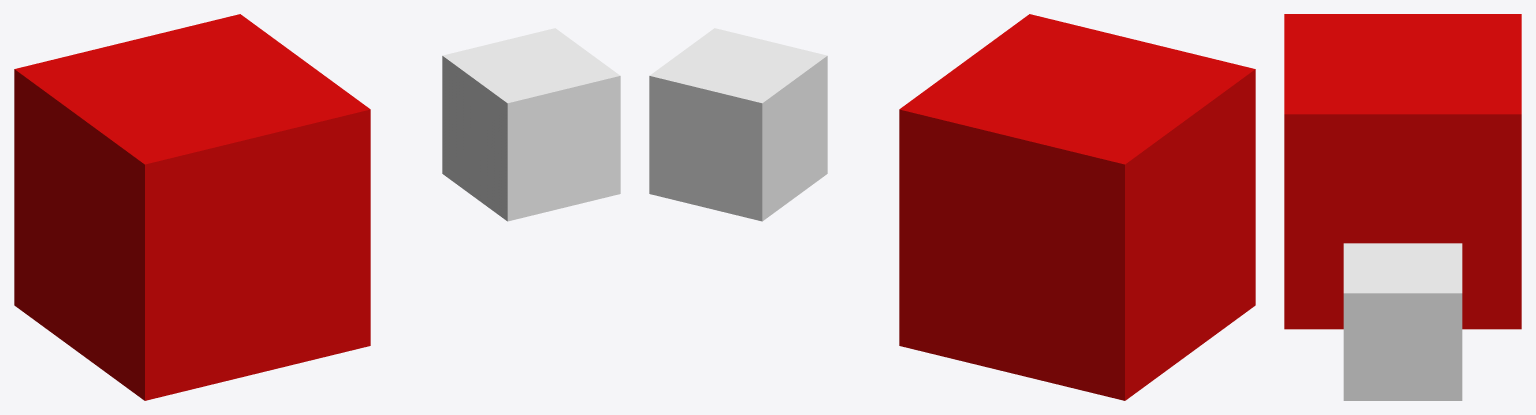
3 renders of one model, left to right at view 1: azimuth 30°, elevation 25°; view 2: azimuth 150°, elevation 25°; view 3: azimuth 270°, elevation 25°, orthographic. The views are drawn at different scales.
Visible parts, largest first — view 1: Mesh, Flame; view 2: Mesh, Flame; view 3: Mesh, Flame.
Part boxes in pixels (box(x1,y1,x2,y2)): Mesh: box(14, 14, 370, 400); Flame: box(442, 28, 620, 221); Mesh: box(899, 14, 1255, 400); Flame: box(649, 28, 827, 221); Mesh: box(1284, 14, 1521, 329); Flame: box(1343, 243, 1462, 400).
Bounding box in the file's own units: 2.25 × 1 × 1.
